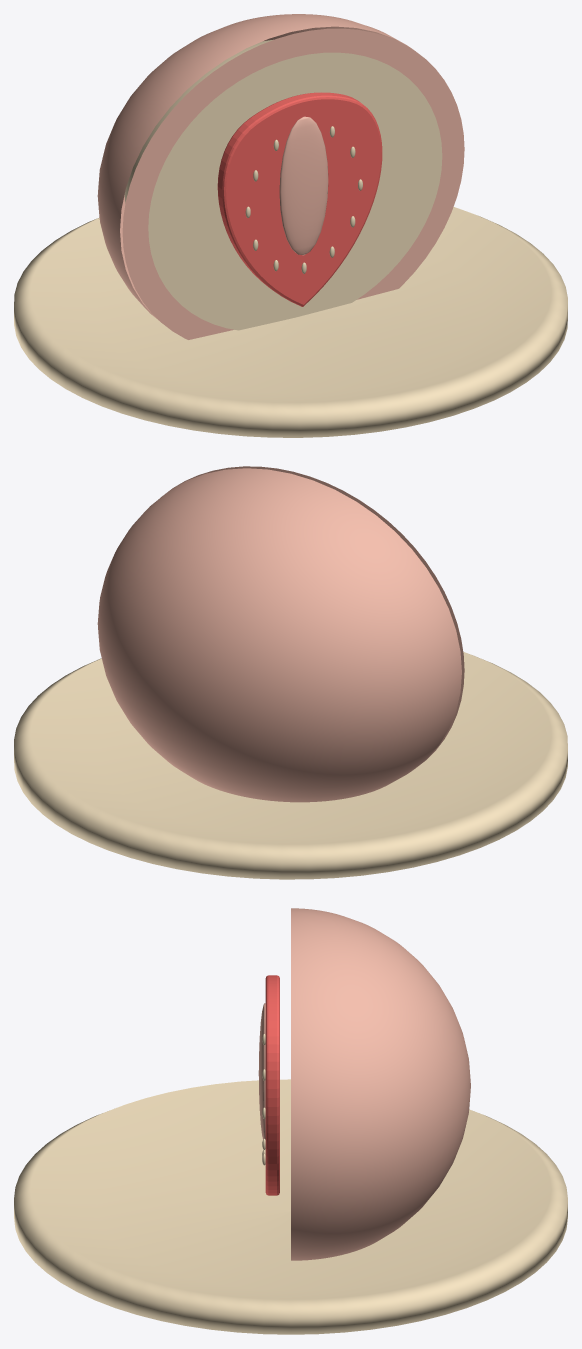
Rendered from 12-strawberry-daifuku.glb.
3 views of the same model, one above another, from view 1: azimuth 30°, elevation 25°; view 2: azimuth 150°, elevation 25°; view 3: azimuth 270°, elevation 25° (orthographic).
Parts seen in each view (by area): view 1: 딸기 다이후쿠; view 2: 딸기 다이후쿠; view 3: 딸기 다이후쿠.
Part boxes in pixels (box(x1,y1,x2,y2)): 딸기 다이후쿠: box(14, 14, 567, 437); 딸기 다이후쿠: box(14, 466, 567, 879); 딸기 다이후쿠: box(14, 908, 567, 1334).
Size of the model in its own units: 1.6 by 1 by 1.6.
